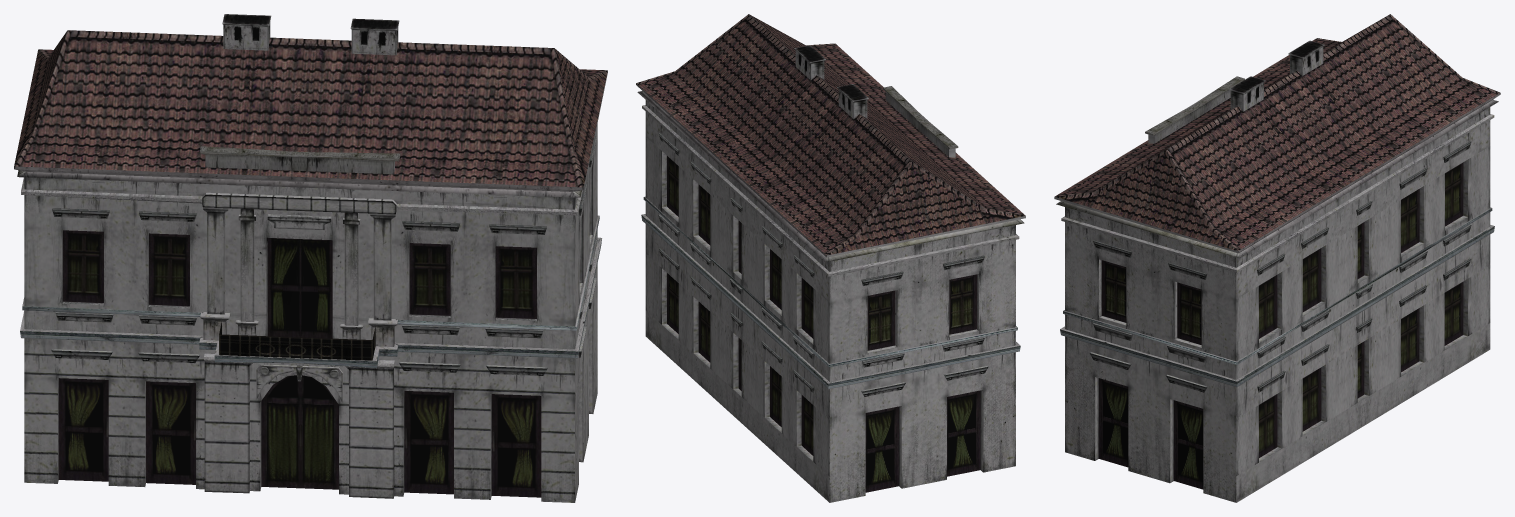
3 views of the same model, side by side, from view 1: azimuth 30°, elevation 25°; view 2: azimuth 150°, elevation 25°; view 3: azimuth 270°, elevation 25° (orthographic). The views are drawn at different scales.
Visible parts, largest first — view 1: City_building_017; view 2: City_building_017; view 3: City_building_017.
Part boxes in pixels (x1=…): City_building_017: x1=14, y1=14, x2=607, y2=502; City_building_017: x1=636, y1=14, x2=1025, y2=502; City_building_017: x1=1054, y1=14, x2=1500, y2=502.
Size of the model in its own units: 2447 by 2167 by 1788.
1 material, 1 textured.
